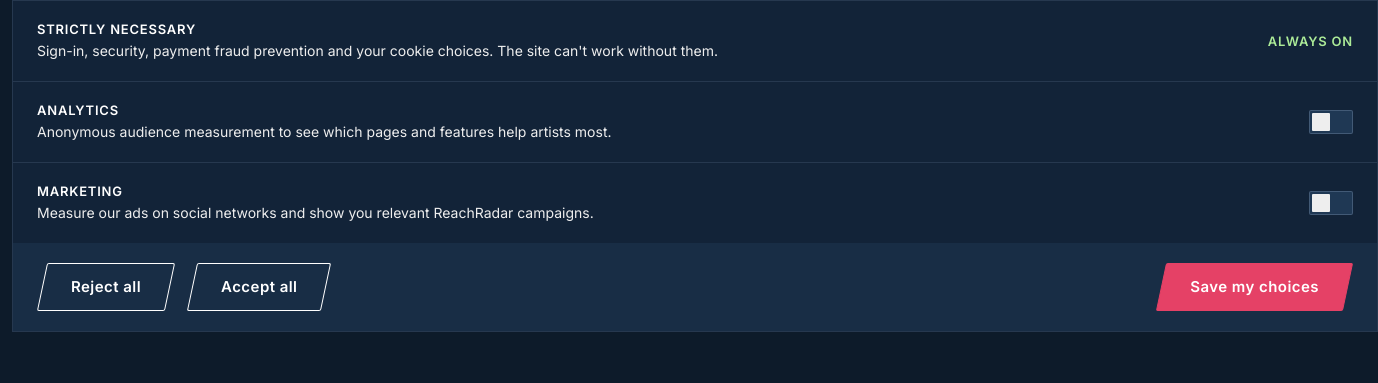
Scenario: CookiePreferences › saves the toggled choices
The image size is (1378, 383).
Step 1. Click the switch named "Analytics" → (1331, 122), box [1309, 110, 1353, 134]
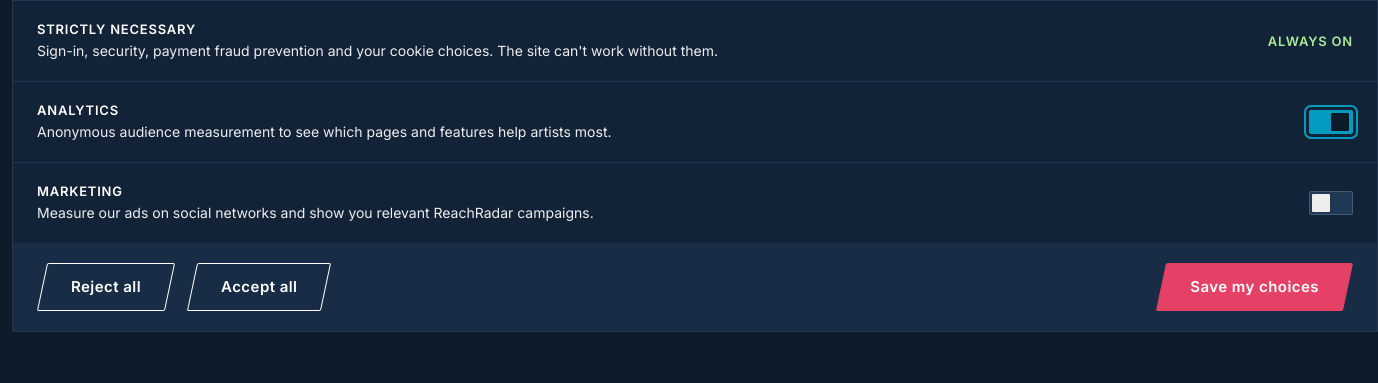
Step 2. Click the button "Save my choices" → (1255, 287), box [1156, 263, 1353, 311]
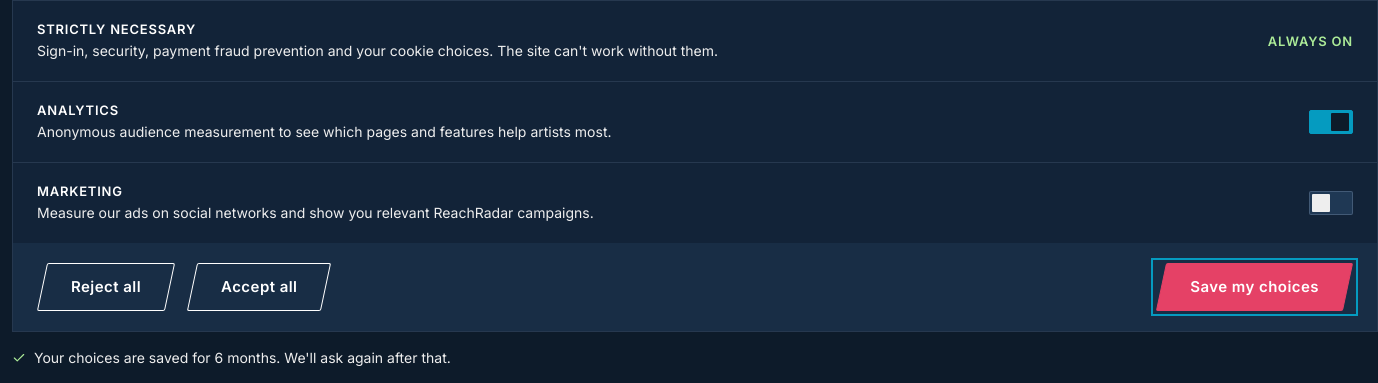
expect the message reads "Your choices are saved for 6 months. We'll ask again after that.": met, box [34, 349, 451, 366]
